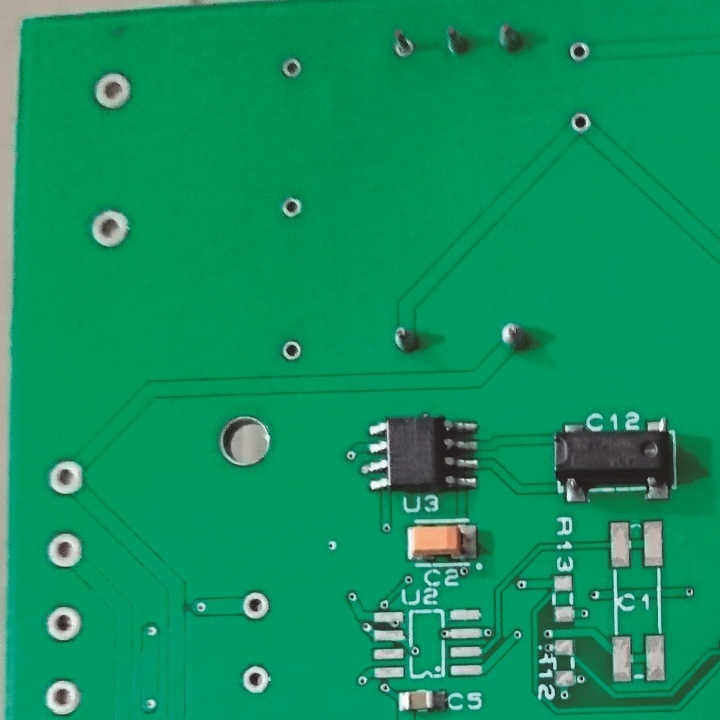F: (91, 68, 130, 112), (44, 532, 87, 571), (47, 458, 84, 501), (41, 678, 84, 715), (88, 208, 133, 243), (47, 603, 81, 643), (241, 588, 272, 624), (241, 661, 273, 695), (391, 29, 414, 62), (567, 110, 592, 136), (281, 195, 303, 219), (567, 41, 592, 61), (281, 58, 301, 83), (281, 340, 302, 360)
